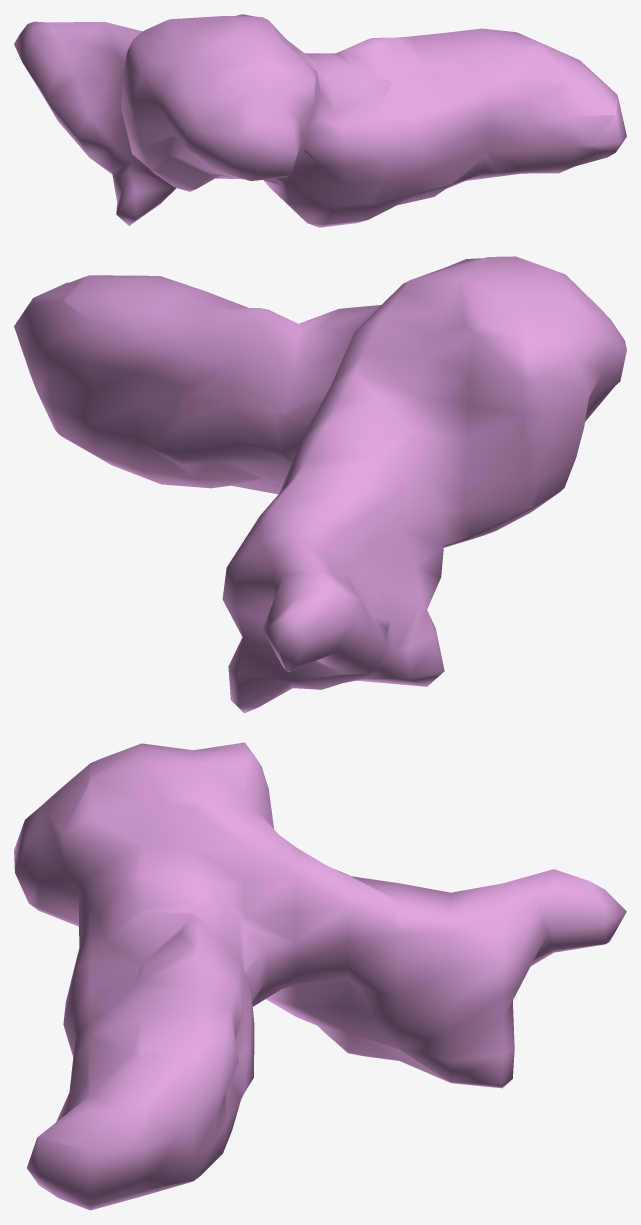
The model's file is Vesicle_47AAligned3.fbx.
3 views of the same model, one above another, from view 1: azimuth 30°, elevation 25°; view 2: azimuth 150°, elevation 25°; view 3: azimuth 270°, elevation 25° (orthographic). The views are drawn at different scales.
Parts seen in each view (by area): view 1: vesicle_MeshVes47Mesh; view 2: vesicle_MeshVes47Mesh; view 3: vesicle_MeshVes47Mesh.
Part boxes in pixels (x1,y1,x2,y2): vesicle_MeshVes47Mesh: [14, 14, 626, 227]; vesicle_MeshVes47Mesh: [14, 256, 626, 713]; vesicle_MeshVes47Mesh: [14, 742, 626, 1210].
Bounding box in the file's own units: 79.67 × 42.03 × 74.64.
